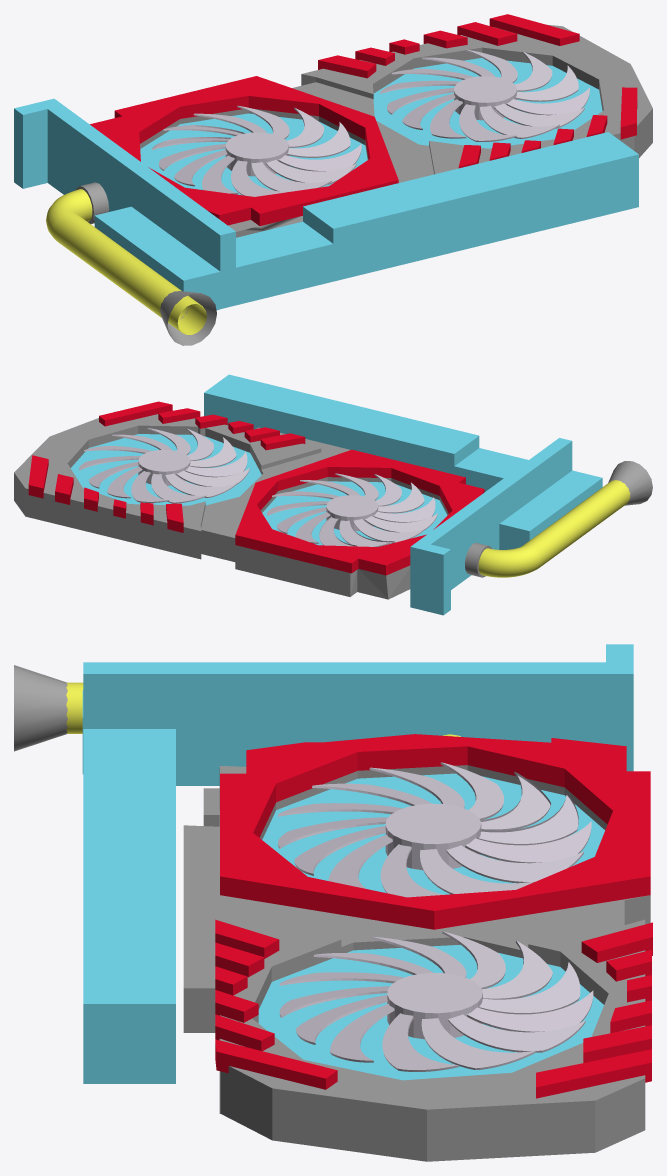
The model's file is GPU2.fbx.
3 views of the same model, one above another, from view 1: azimuth 30°, elevation 25°; view 2: azimuth 150°, elevation 25°; view 3: azimuth 270°, elevation 25° (orthographic). The views are drawn at different scales.
Visible parts, largest first — view 1: Mesh54.027, Mesh54.287, Mesh54.028, Mesh54.021, Mesh54.039, object_2, Mesh54.163, Mesh54.001, Mesh54, Mesh54.164, Mesh54.011, Mesh54.033 (+52 smaller); view 2: Mesh54.287, Mesh54.021, Mesh54.029, object_2, Mesh54.039, Mesh54.022, Mesh54.163, Mesh54.283, Mesh54.001, Mesh54.257, Mesh54.284, Mesh54 (+59 smaller); view 3: Mesh54.287, Mesh54.019, Mesh54.022, Mesh54.020, Mesh54.163, Mesh54.021, Mesh54.001, Mesh54.279, Mesh54, Mesh54.277, Mesh54.002, Mesh54.112 (+62 smaller).
Part boxes in pixels (x1,y1,x2,y2): Mesh54.027: (236, 154, 638, 305); Mesh54.287: (90, 76, 398, 225); Mesh54.028: (238, 155, 638, 304); Mesh54.021: (303, 132, 638, 228); Mesh54.039: (47, 109, 220, 270); object_2: (46, 189, 206, 334); Mesh54.163: (302, 24, 652, 140); Mesh54.001: (373, 58, 602, 148); Mesh54: (140, 113, 367, 194); Mesh54.164: (304, 26, 652, 140); Mesh54.011: (95, 206, 219, 280); Mesh54.033: (14, 98, 235, 235); Mesh54.287: (235, 449, 484, 575); Mesh54.021: (204, 374, 478, 453); Mesh54.029: (204, 393, 503, 491); object_2: (478, 480, 630, 577); Mesh54.039: (431, 441, 572, 589); Mesh54.022: (206, 375, 477, 453); Mesh54.163: (14, 411, 205, 530); Mesh54.283: (25, 488, 201, 559); Mesh54.001: (70, 434, 261, 505); Mesh54.257: (235, 545, 349, 596); Mesh54.284: (25, 489, 201, 558); Mesh54: (262, 481, 447, 545); Mesh54.287: (220, 734, 650, 929); Mesh54.019: (83, 674, 633, 785); Mesh54.022: (83, 778, 175, 1003); Mesh54.020: (84, 674, 633, 785); Mesh54.163: (219, 919, 645, 1109); Mesh54.021: (83, 778, 175, 1003); Mesh54.001: (258, 944, 603, 1080); Mesh54.279: (427, 1101, 595, 1161); Mesh54: (262, 773, 604, 883); Mesh54.277: (272, 1088, 426, 1161); Mesh54.002: (258, 945, 603, 1078); Mesh54.112: (220, 895, 648, 949).
Bounding box in the file's own units: 4494 × 580 × 2738.
